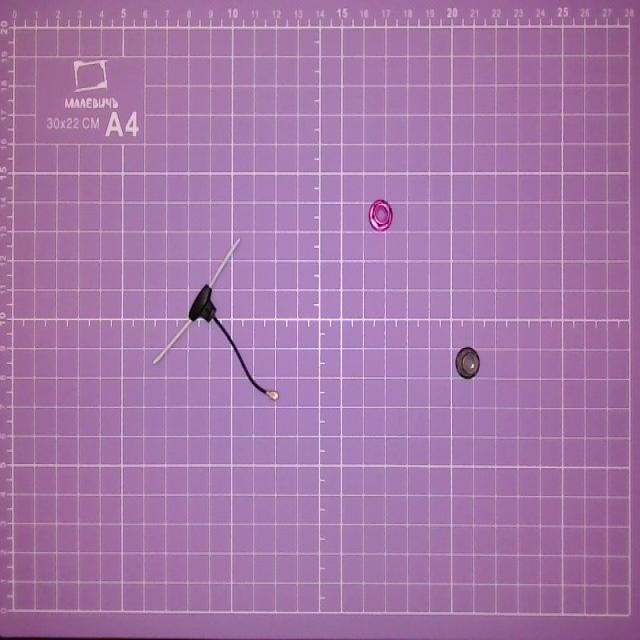antenna: (153, 236, 280, 402)
screw_M5: (455, 340, 487, 390), (366, 196, 396, 235)
